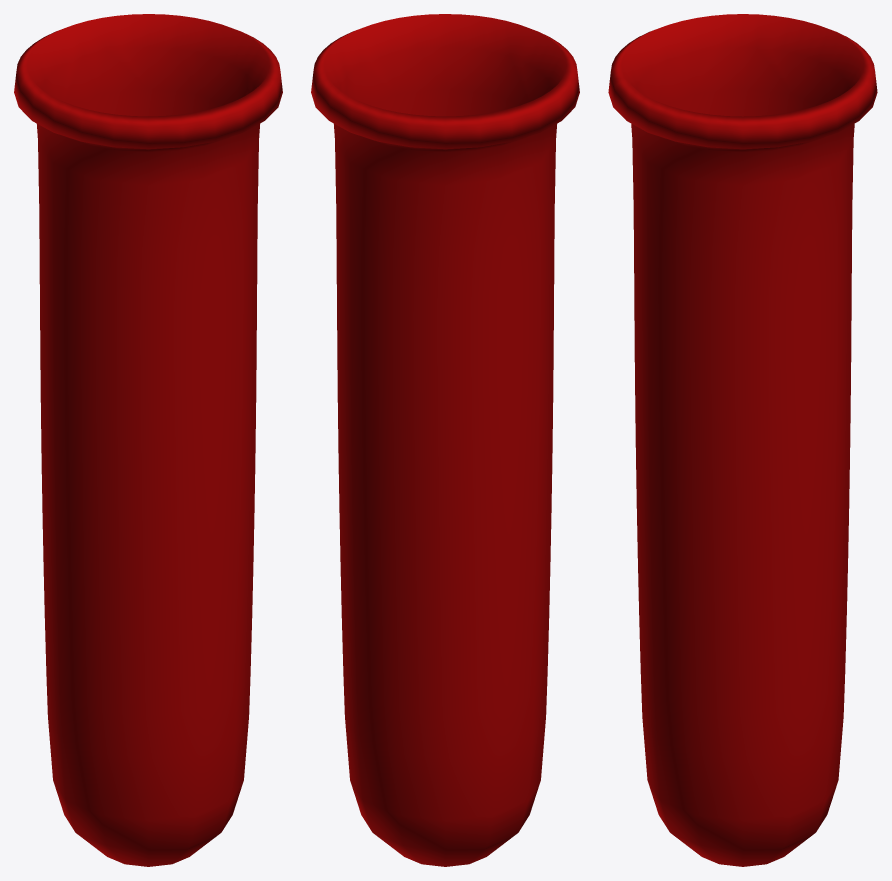
Rendered from TestTube5.fbx.
3 renders of one model, left to right at view 1: azimuth 30°, elevation 25°; view 2: azimuth 150°, elevation 25°; view 3: azimuth 270°, elevation 25°, orthographic.
Parts seen in each view (by area): view 1: TestTube5; view 2: TestTube5; view 3: TestTube5.
Boxes of the visible parts, x1,y1,x2,y2 form: TestTube5: (14, 14, 282, 866); TestTube5: (311, 14, 579, 866); TestTube5: (608, 14, 877, 866).
Bounding box in the file's own units: 6.67 × 21.46 × 6.67.
